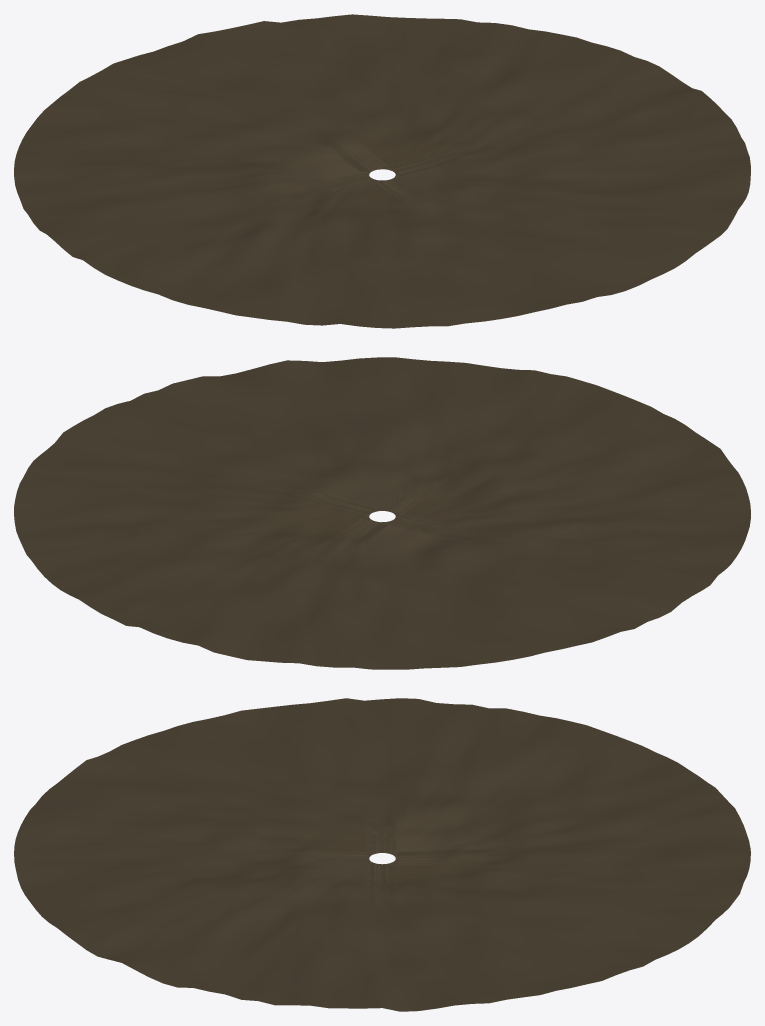
The model's file is catalhoyuk-dogu-hoyugu-skirt.glb.
3 views of the same model, one above another, from view 1: azimuth 30°, elevation 25°; view 2: azimuth 150°, elevation 25°; view 3: azimuth 270°, elevation 25° (orthographic).
Visible parts, largest first — view 1: catalhoyuk-dogu-hoyugu-skirt; view 2: catalhoyuk-dogu-hoyugu-skirt; view 3: catalhoyuk-dogu-hoyugu-skirt.
Boxes of the visible parts, box(x1,y1,x2,y2) form: catalhoyuk-dogu-hoyugu-skirt: box(14, 14, 750, 328); catalhoyuk-dogu-hoyugu-skirt: box(14, 357, 750, 669); catalhoyuk-dogu-hoyugu-skirt: box(14, 698, 750, 1011).
Bounding box in the file's own units: 8400 × 82.56 × 8400.
